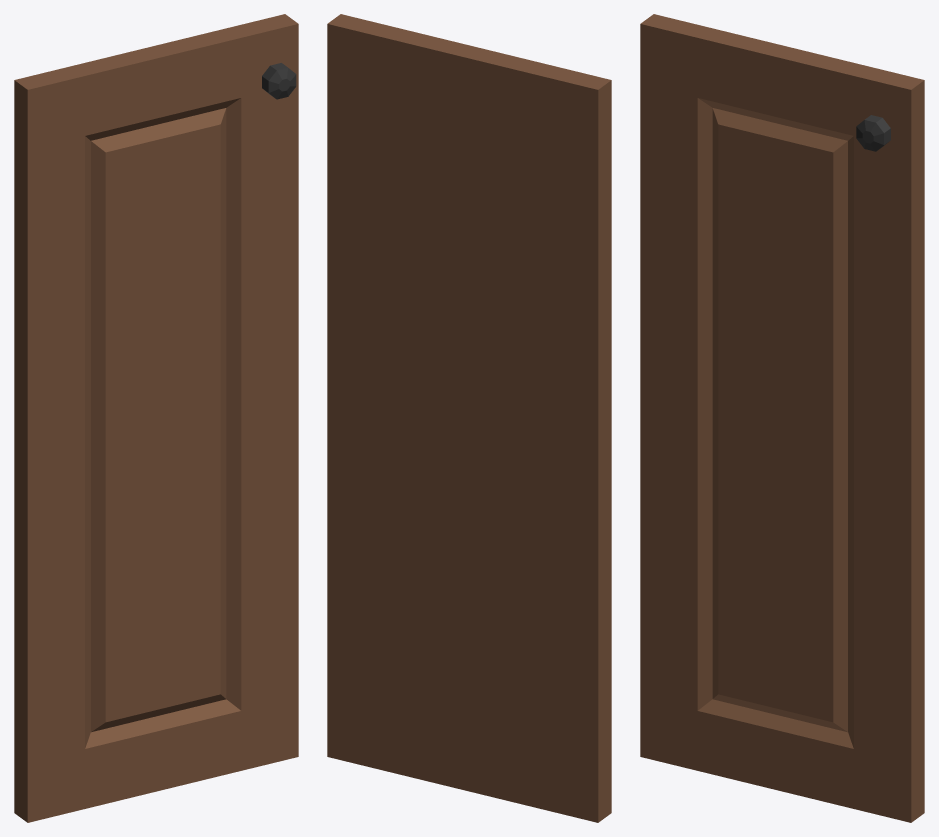
File: Door3_C2_04.fbx
3 views of the same model, side by side, from view 1: azimuth 30°, elevation 25°; view 2: azimuth 150°, elevation 25°; view 3: azimuth 330°, elevation 25° (orthographic).
Visible parts, largest first — view 1: Door3_C2_04; view 2: Door3_C2_04; view 3: Door3_C2_04.
Boxes of the visible parts, bbox=[...] form: Door3_C2_04: bbox=[14, 14, 298, 822]; Door3_C2_04: bbox=[327, 14, 611, 822]; Door3_C2_04: bbox=[640, 14, 924, 822].
Bounding box in the file's own units: 29 × 75 × 5.19.
